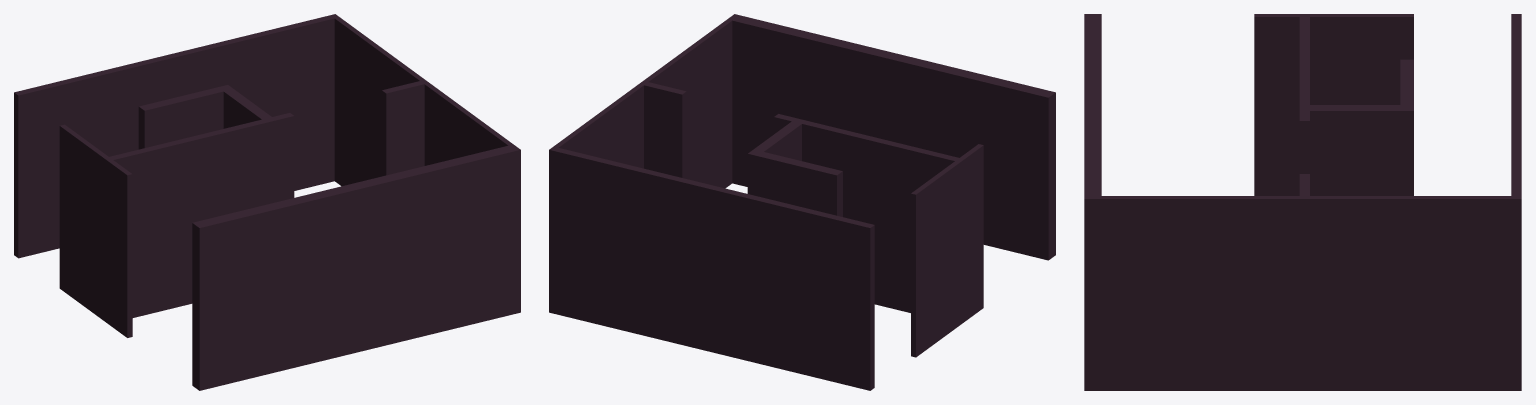
The model's file is Chanks-7.obj.
3 views of the same model, side by side, from view 1: azimuth 30°, elevation 25°; view 2: azimuth 150°, elevation 25°; view 3: azimuth 270°, elevation 25° (orthographic). The views are drawn at different scales.
Size of the model in its own units: 12.6 by 6.1 by 12.6.
Materials: 1 (1 with a texture image).
